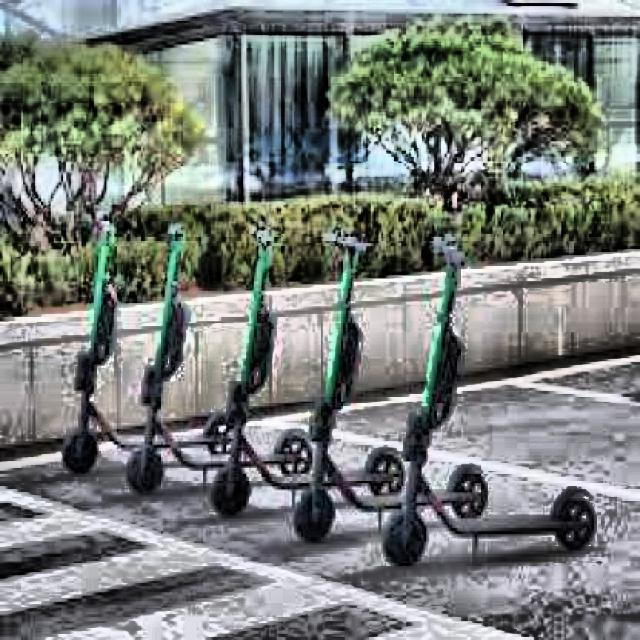bike: (63, 221, 601, 567)
car: (0, 282, 25, 320)
